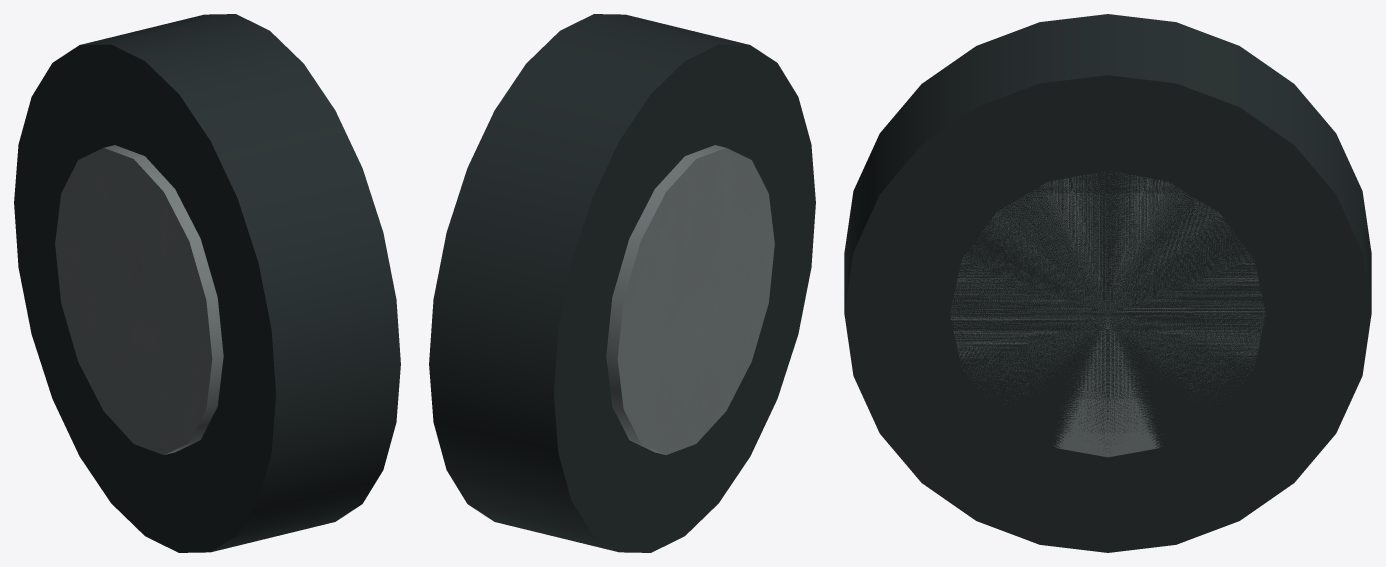
The model's file is vehicle_wheel.glb.
The picture shows the model from 3 angles, left to right: view 1: azimuth 30°, elevation 25°; view 2: azimuth 150°, elevation 25°; view 3: azimuth 270°, elevation 25°; orthographic projection.
Parts seen in each view (by area): view 1: vehicle_wheel; view 2: vehicle_wheel; view 3: vehicle_wheel.
Boxes of the visible parts, left/top/right/bottom form: vehicle_wheel: left=14, top=14, right=400, bottom=552; vehicle_wheel: left=429, top=14, right=815, bottom=552; vehicle_wheel: left=844, top=14, right=1371, bottom=552.
Bounding box in the file's own units: 0.6 × 2 × 2.
2 materials, 1 textured.
